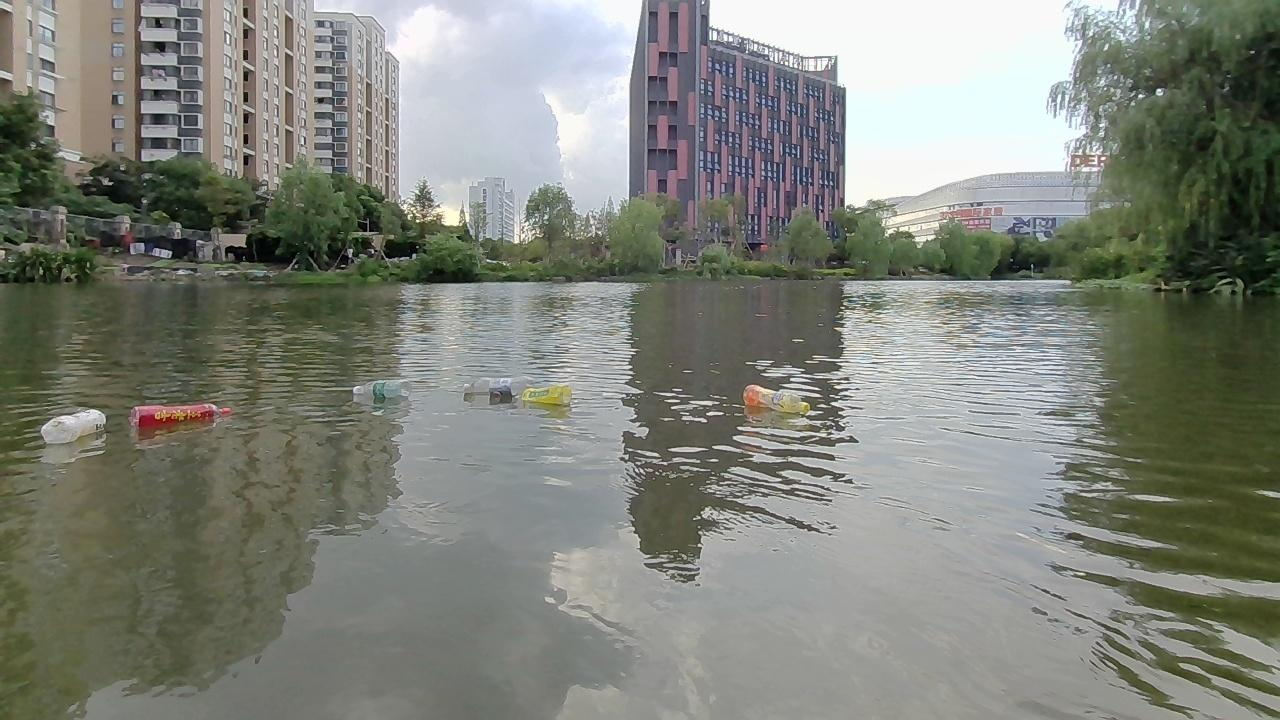bottle: (739, 379, 815, 421), (130, 403, 233, 432), (36, 405, 107, 447), (516, 383, 570, 411), (461, 388, 523, 412), (457, 372, 527, 391), (348, 382, 410, 400)
